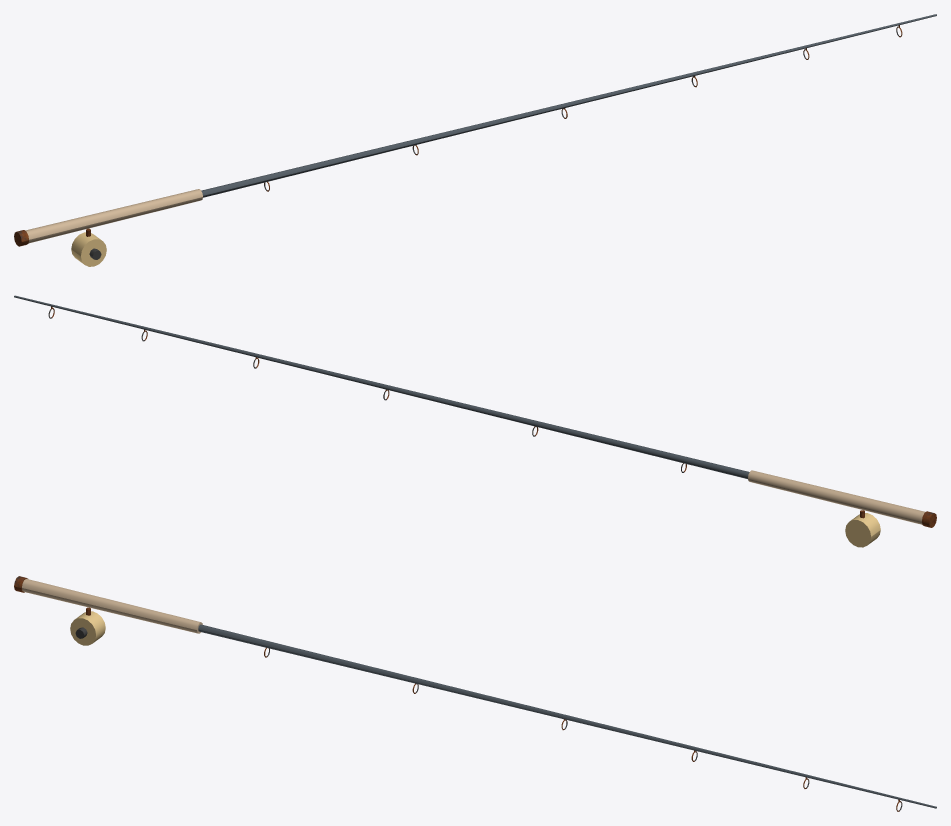
File: fishing_rod.glb
The picture shows the model from 3 angles, top to bottom: view 1: azimuth 30°, elevation 25°; view 2: azimuth 150°, elevation 25°; view 3: azimuth 330°, elevation 25°; orthographic projection.
Parts seen in each view (by area): view 1: fishing_rod2; view 2: fishing_rod2; view 3: fishing_rod2.
Boxes of the visible parts, bbox=[...] form: fishing_rod2: bbox=[14, 14, 936, 266]; fishing_rod2: bbox=[14, 295, 936, 547]; fishing_rod2: bbox=[14, 576, 936, 811].
Bounding box in the file's own units: 2.47 × 0.1221 × 0.06.
5 materials, 1 textured.
